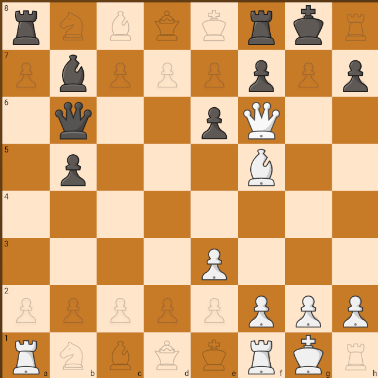bb: (52, 54, 94, 94)
bk: (289, 4, 327, 48)
bp: (240, 55, 283, 97), (54, 149, 95, 190), (197, 104, 234, 141), (341, 55, 373, 94)
bq: (51, 100, 94, 143)
br: (243, 3, 282, 48), (5, 6, 46, 48)
wb: (241, 147, 283, 190)
wk: (288, 333, 328, 377)
wp: (243, 292, 282, 331), (338, 290, 373, 329), (290, 292, 326, 329), (199, 244, 233, 283)
wq: (240, 100, 281, 142)
wr: (6, 339, 45, 375), (243, 340, 281, 375)
